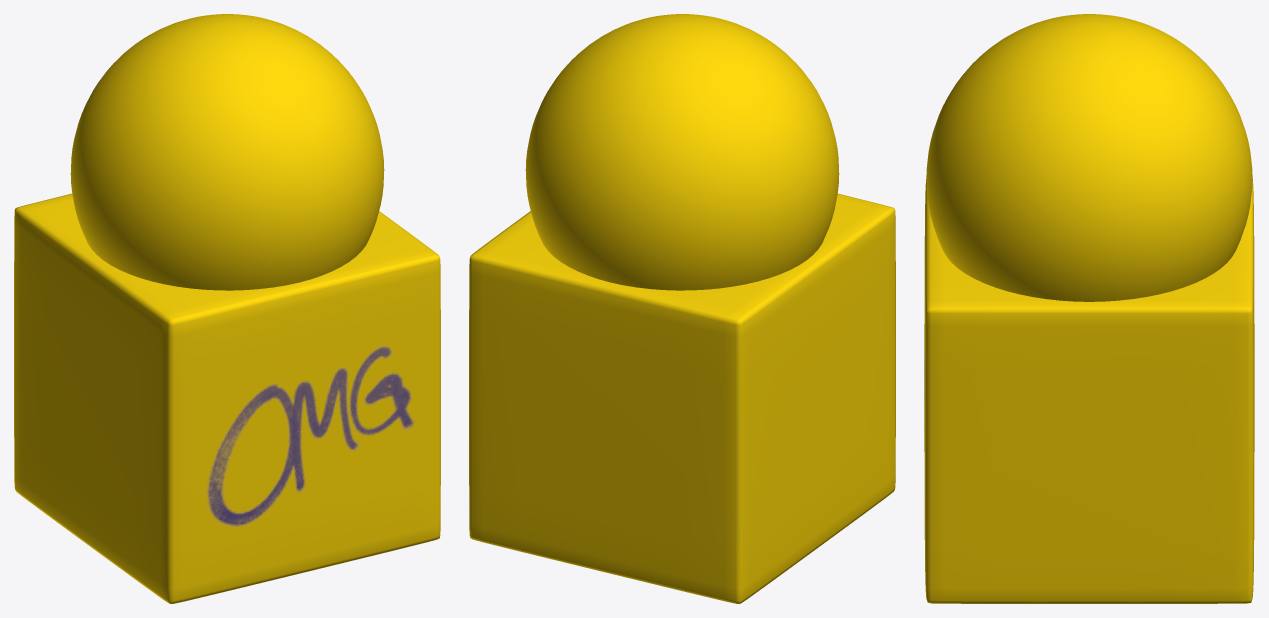
The model's file is pf5_singlemat_blender.fbx.
3 views of the same model, side by side, from view 1: azimuth 30°, elevation 25°; view 2: azimuth 150°, elevation 25°; view 3: azimuth 270°, elevation 25° (orthographic). The views are drawn at different scales.
Parts seen in each view (by area): view 1: pf5; view 2: pf5; view 3: pf5.
Part boxes in pixels (left/top/right/bottom): pf5: left=14, top=14, right=440, bottom=603; pf5: left=469, top=14, right=895, bottom=603; pf5: left=924, top=14, right=1254, bottom=603.
Size of the model in its own units: 99.88 by 170 by 99.88.
